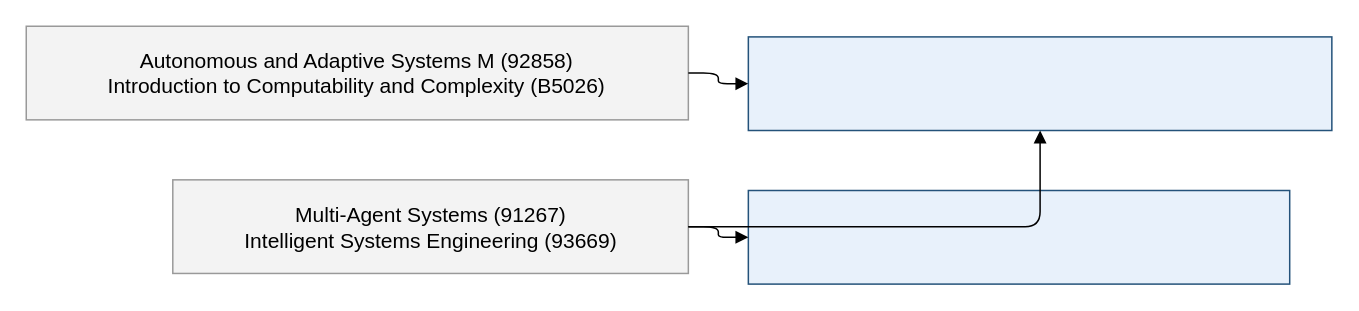
The diagram is 1359 pixels wide and 311 high, and some of its shapes have lost their labels. Here are the shapes that lost their labels. From the top down, the centre of each, then its label:
At (1039,82): "Complexity and Agent Engineering Foundations 3 ECTS".
At (1018,236): "Multi-Agent Programming and Coordination 3 ECTS".
